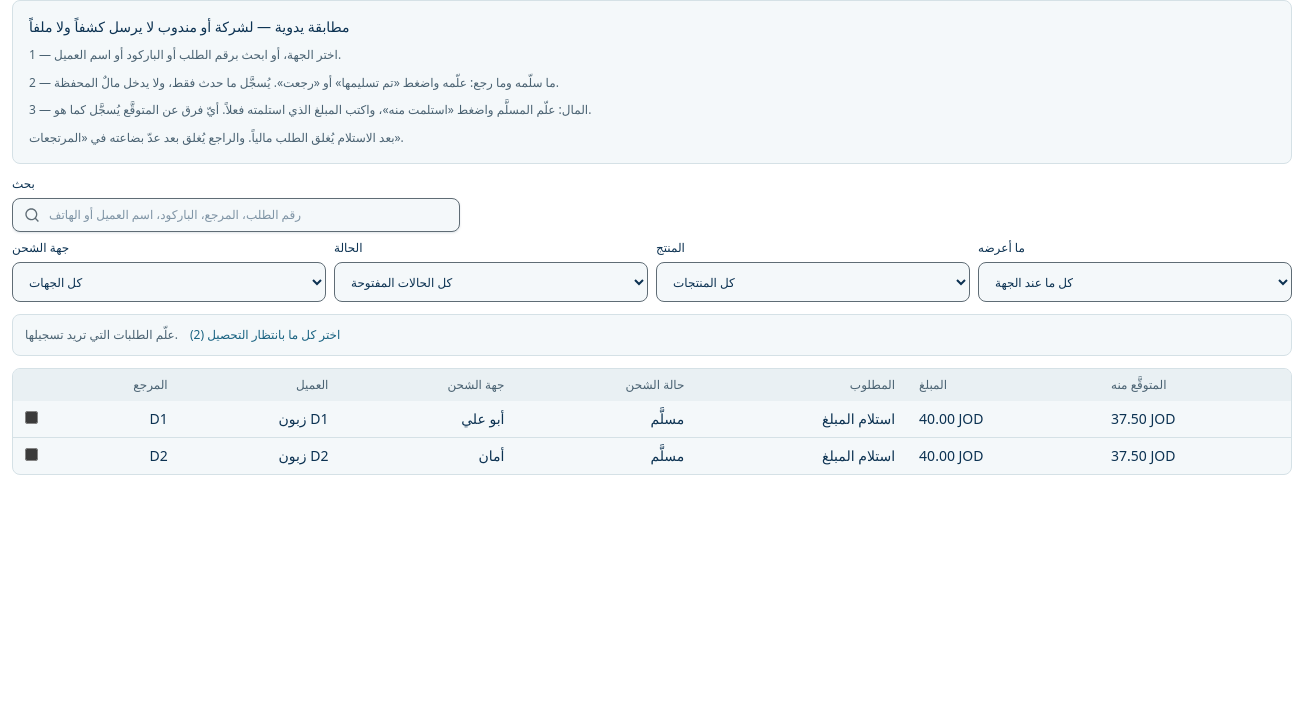
Test: what the ticked parcels ask for › money from two couriers in one press is refused in words — the dialog says «منه», it means one person
Check: the dropdown labelled "جهة الشحن" is shown, box [12,262,326,302]
Check: the row "D1 زبون D1 أبو علي مسلَّم استلام المبلغ 40.00 JOD 37.50 JOD" is shown, box [13,401,1291,438]
Click the checkbox named "اختر السجل" in the row of "زبون D1": [32, 418] box [25,411,38,424]
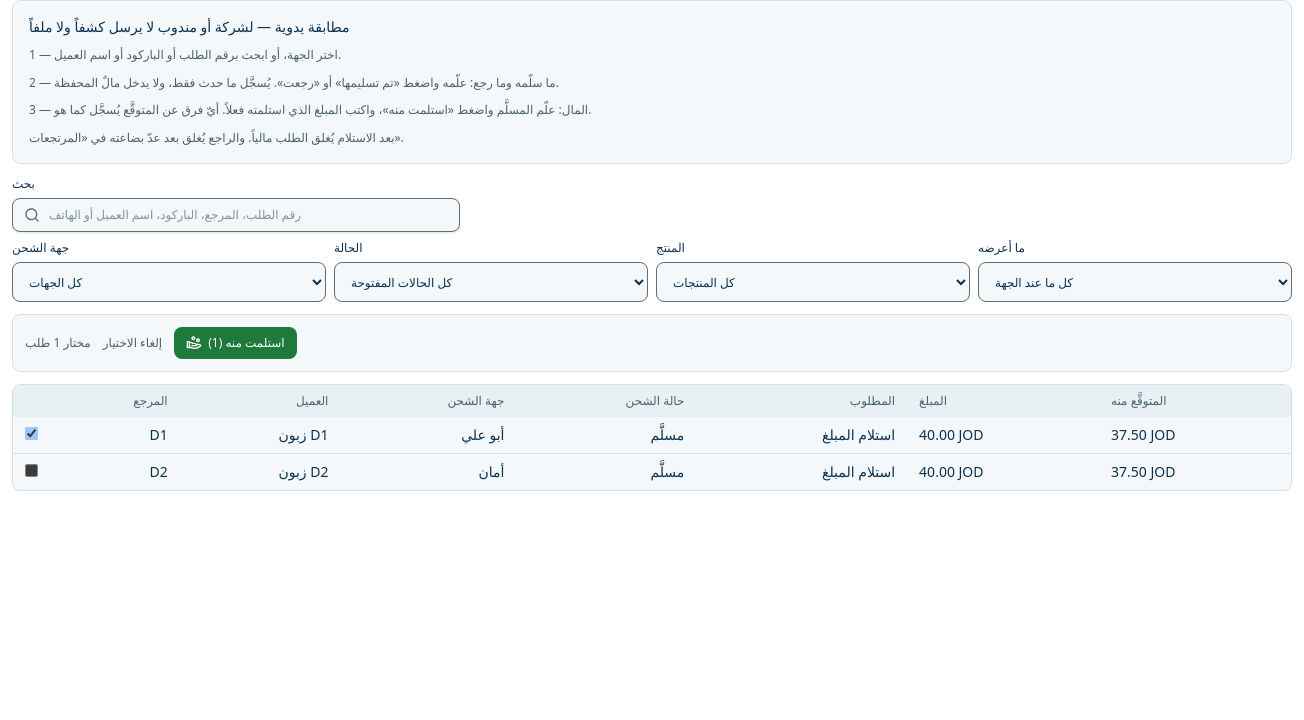
Click the checkbox named "اختر السجل": [32, 470] box [25,464,38,477]
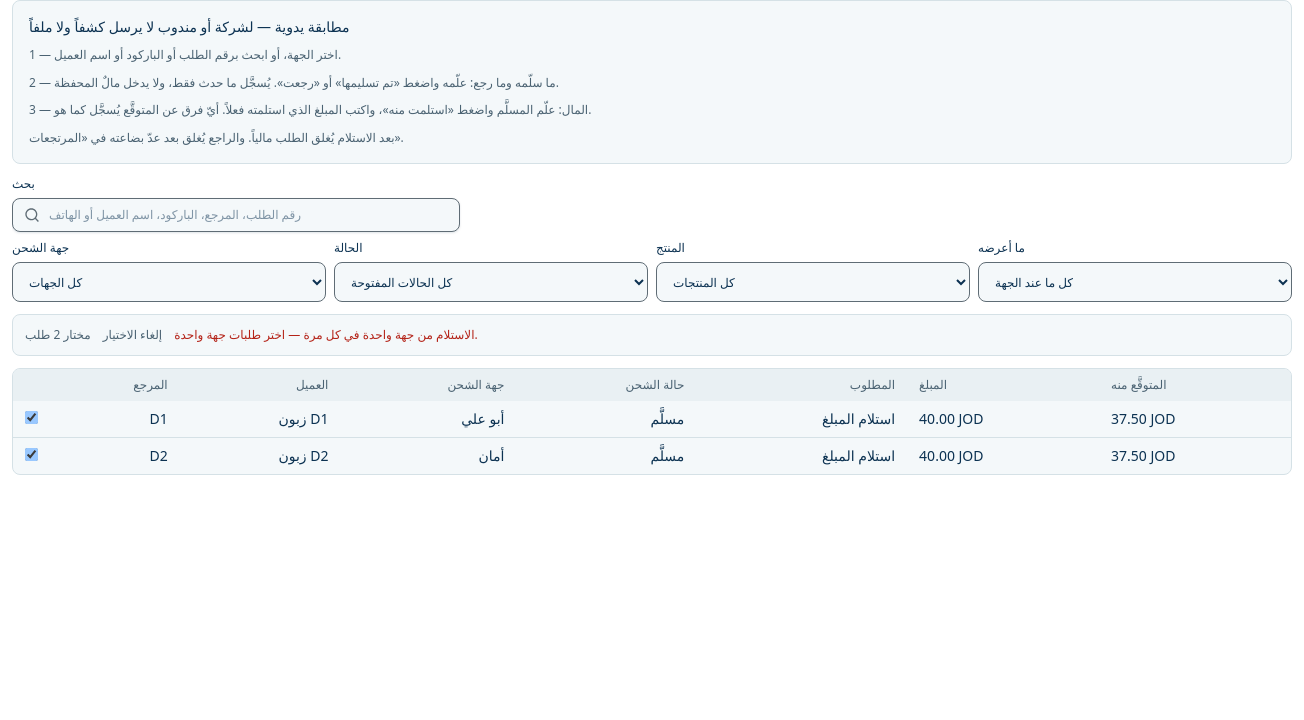
Check: the text "جهة واحدة" is shown, box [174,326,478,343]
Check: the button "استلمت منه (" is gone
